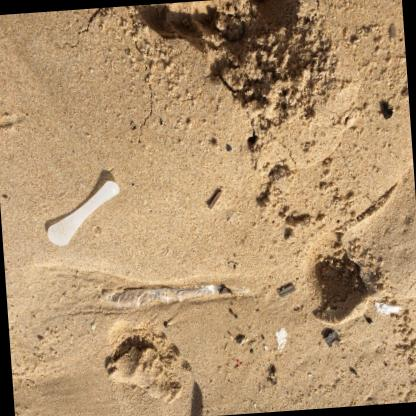Plastic: (47, 180, 119, 245), (103, 284, 248, 306), (374, 301, 403, 314), (274, 327, 287, 351)
Waste: (237, 359, 240, 365), (264, 345, 267, 350)
